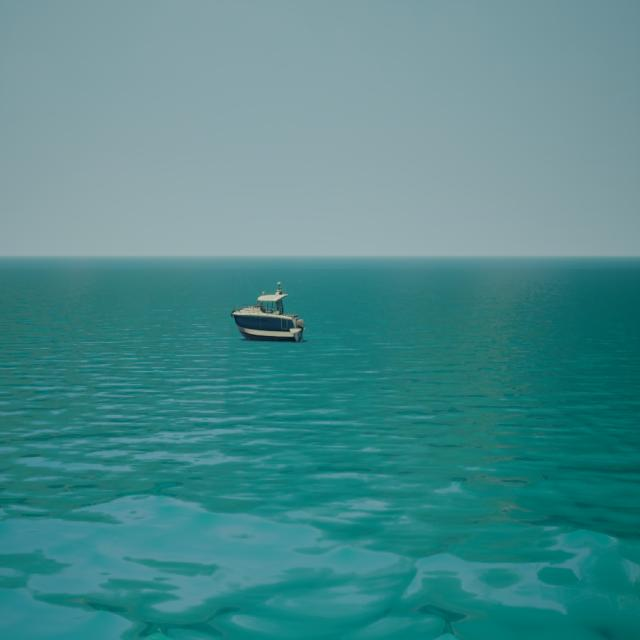ship: (230, 279, 306, 341)
